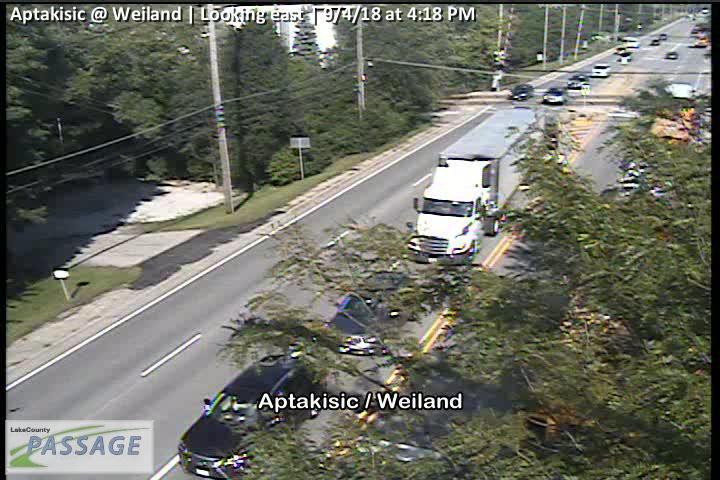Bus: (650, 81, 696, 143), (694, 30, 708, 47)
Sedan: (177, 352, 327, 480), (324, 268, 423, 356), (541, 87, 567, 104), (509, 85, 534, 100), (567, 74, 590, 89), (591, 63, 611, 76), (616, 53, 632, 64), (666, 51, 679, 59), (651, 39, 660, 45), (659, 33, 667, 39)
Truck: (407, 106, 548, 266)
